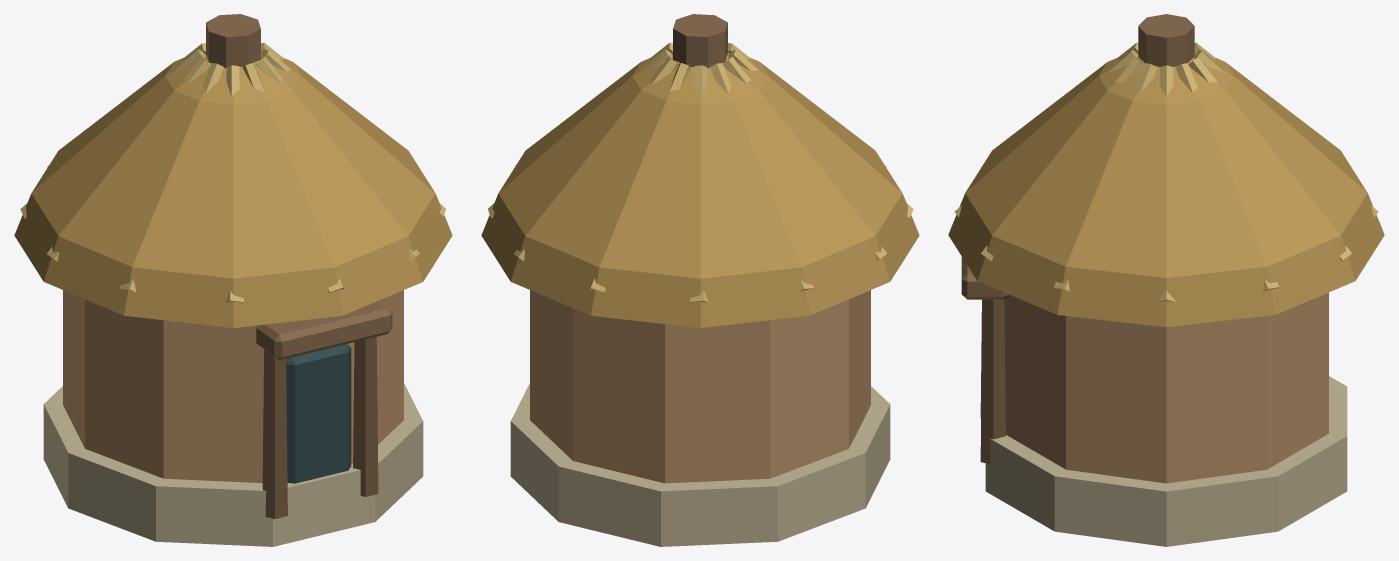
File: site-hut.glb
3 views of the same model, side by side, from view 1: azimuth 30°, elevation 25°; view 2: azimuth 150°, elevation 25°; view 3: azimuth 270°, elevation 25° (orthographic).
Visible parts, largest first — view 1: Tapered form; view 2: Tapered form; view 3: Tapered form.
Part boxes in pixels (box(x1,y1,x2,y2)): Tapered form: box(14, 14, 452, 546); Tapered form: box(481, 14, 919, 546); Tapered form: box(948, 14, 1384, 546).
Size of the model in its own units: 0.386 by 0.43 by 0.386.
